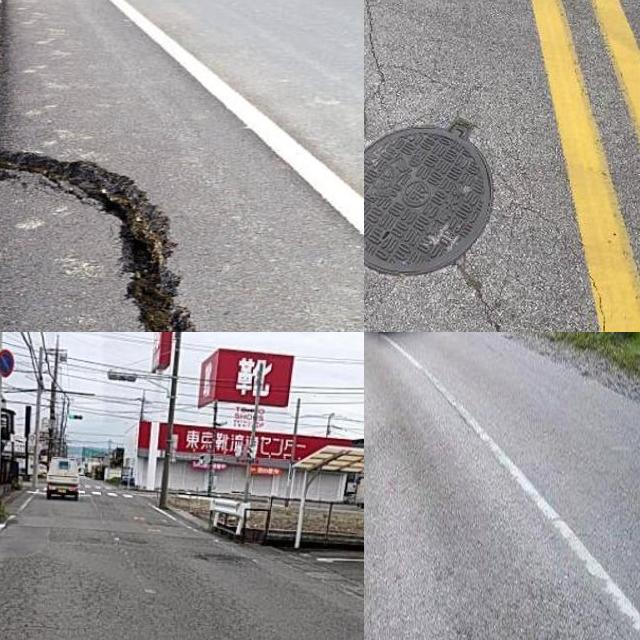Lubang: (364, 127, 492, 273)
Memanjang: (448, 253, 537, 332), (364, 0, 395, 139)
Pinggir: (0, 90, 241, 332)
